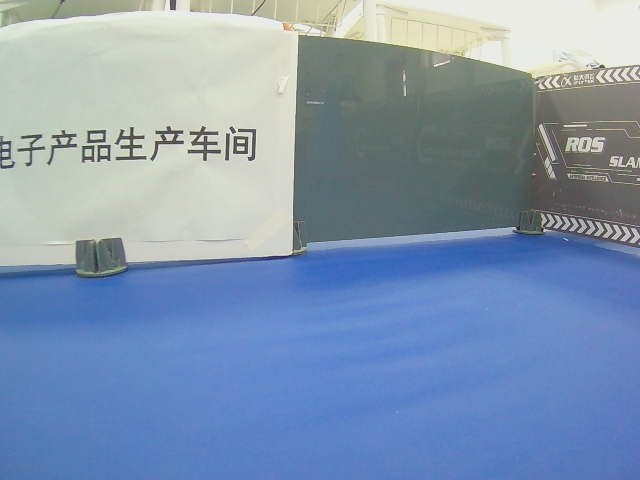target: (1, 125, 257, 170)
